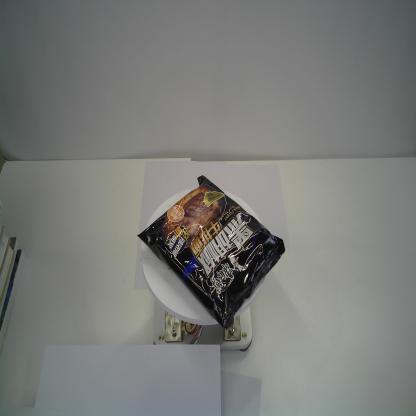Instant Noodles: (136, 174, 287, 332)
